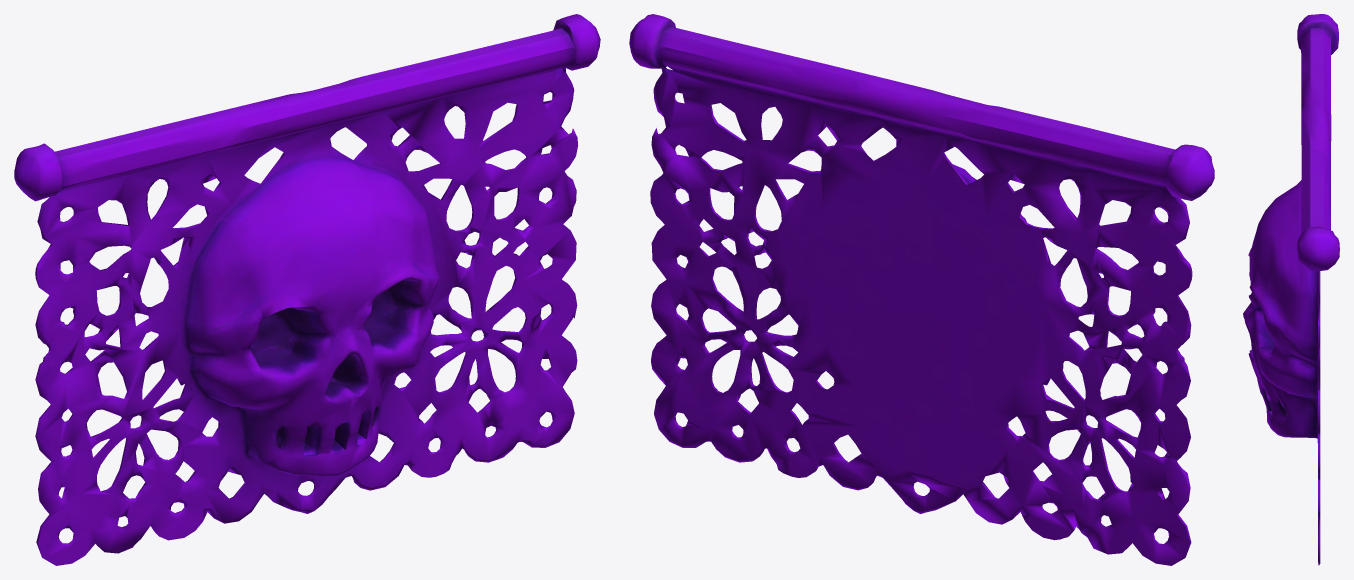
File: papel-picado-calavera.glb
The picture shows the model from 3 angles, left to right: view 1: azimuth 30°, elevation 25°; view 2: azimuth 150°, elevation 25°; view 3: azimuth 270°, elevation 25°; orthographic projection. The views are drawn at different scales.
Visible parts, largest first — view 1: Mesh_0; view 2: Mesh_0; view 3: Mesh_0.
Part boxes in pixels (box(x1,y1,x2,y2)): Mesh_0: box(14, 14, 600, 565); Mesh_0: box(629, 14, 1214, 565); Mesh_0: box(1243, 14, 1339, 565).
Bounding box in the file's own units: 1.9 × 1.34 × 0.3358.
Materials: 1 (1 with a texture image).
